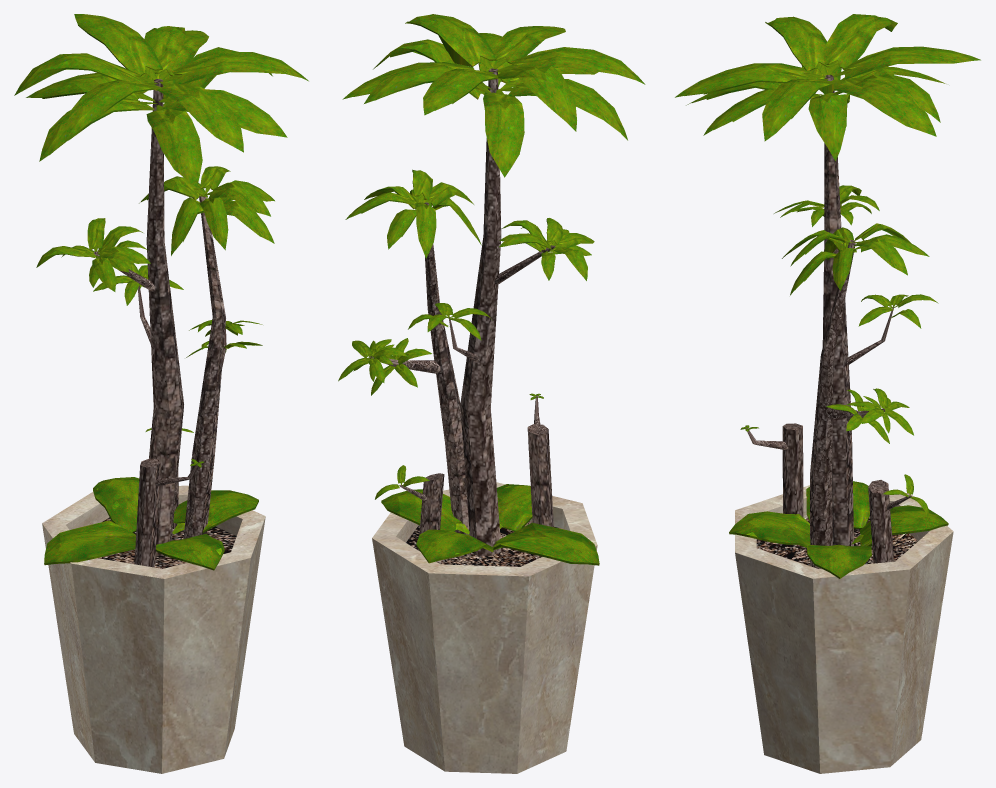
The model's file is pottedplant.gltf.
3 renders of one model, left to right at view 1: azimuth 30°, elevation 25°; view 2: azimuth 150°, elevation 25°; view 3: azimuth 270°, elevation 25°, orthographic.
Parts seen in each view (by area): view 1: Cylinder; view 2: Cylinder; view 3: Cylinder.
Boxes of the visible parts, x1,y1,x2,y2 form: Cylinder: (14,14,308,773); Cylinder: (338,14,645,773); Cylinder: (675,14,980,773).
Bounding box in the file's own units: 2.51 × 6.6 × 2.67.
Materials: 1 (1 with a texture image).
